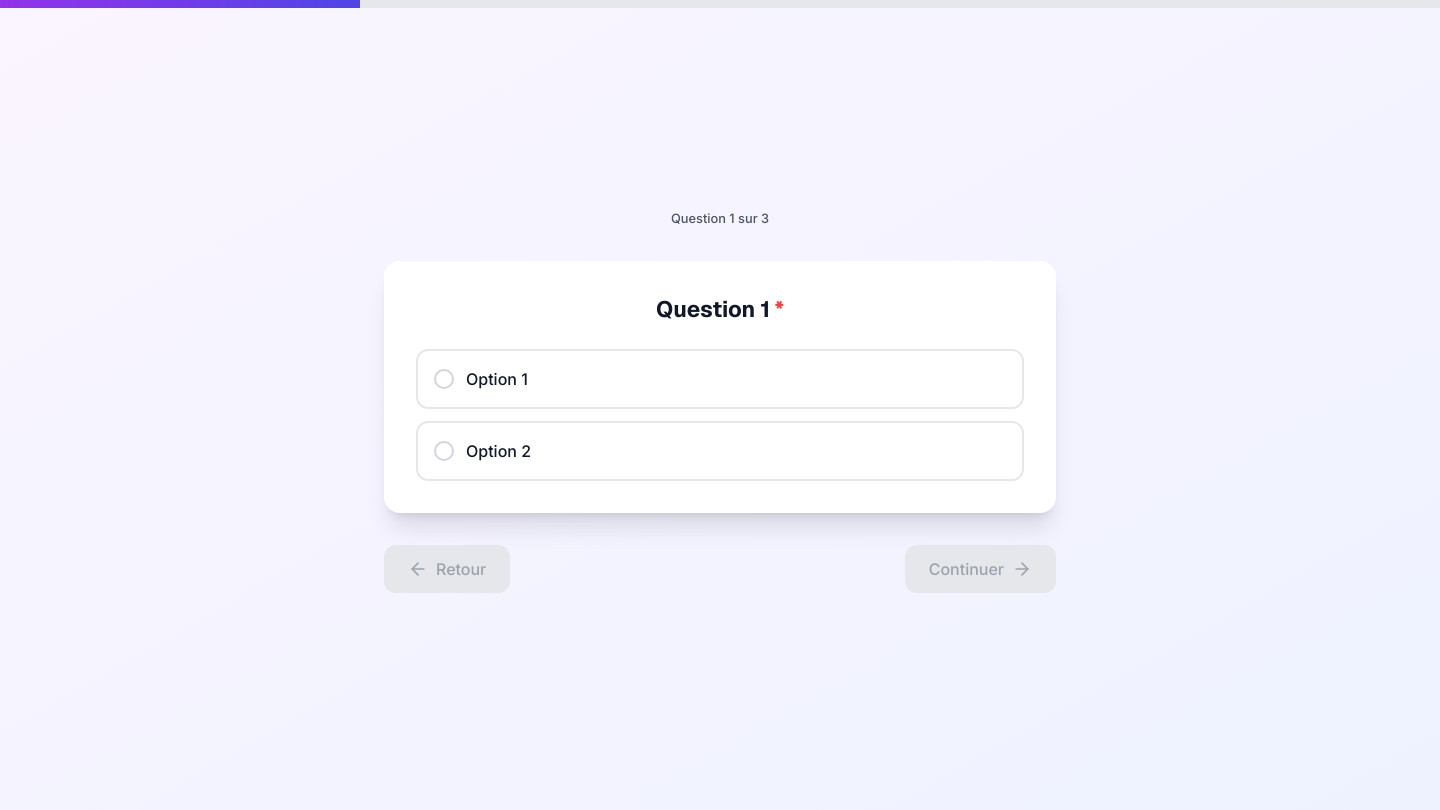
Test: MultiStepFormVote › passe à la question suivante en cliquant sur Continuer
Note: Répondre à Q1
What coordinates should you click on to do the following:
click the button "Option 1"
I would click on:
 (497, 379)
Its box is [416,349,1024,409].
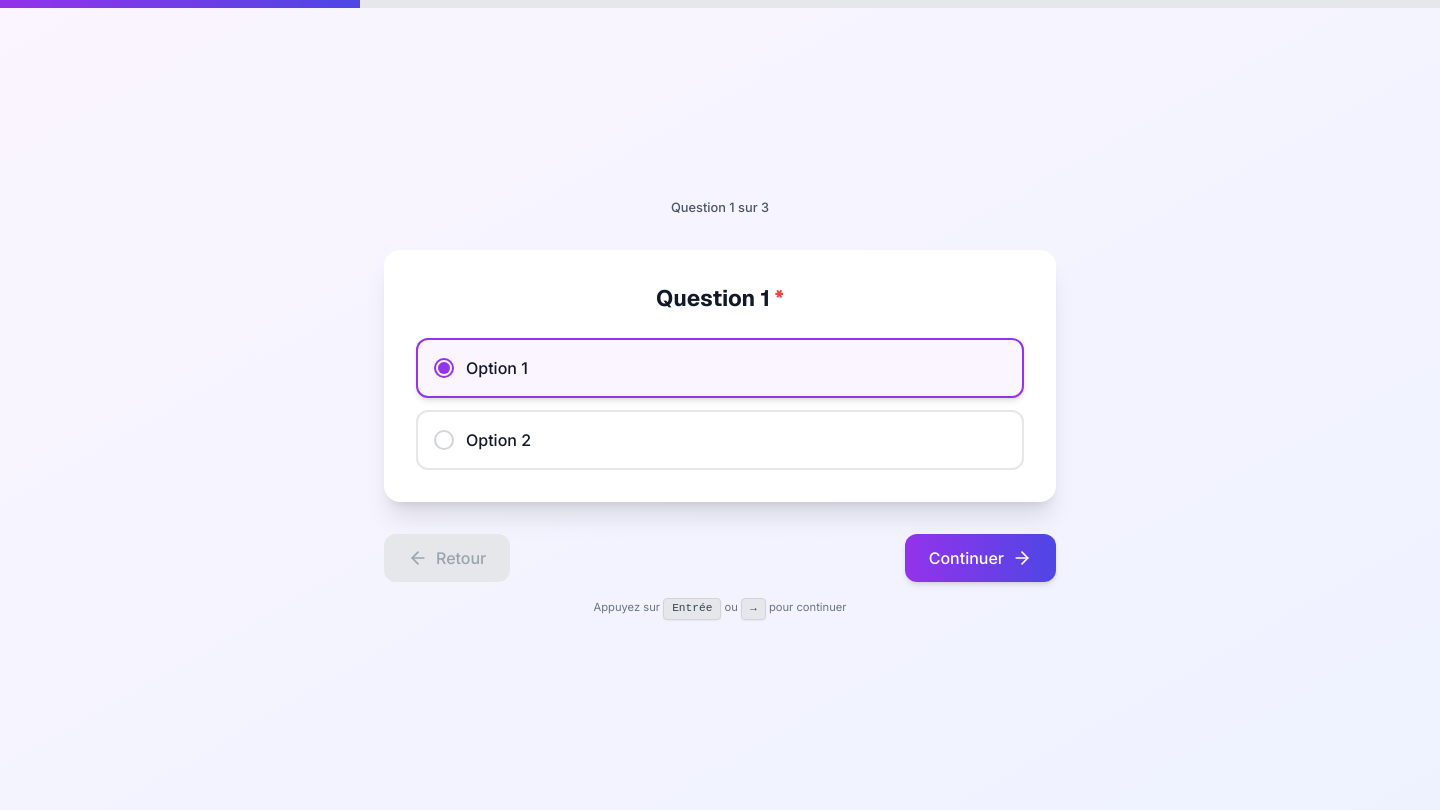
Note: Cliquer sur Continuer
What coordinates should you click on to do the following:
click the button "Continuer"
I would click on:
 (980, 558)
Its box is [905,534,1056,582].
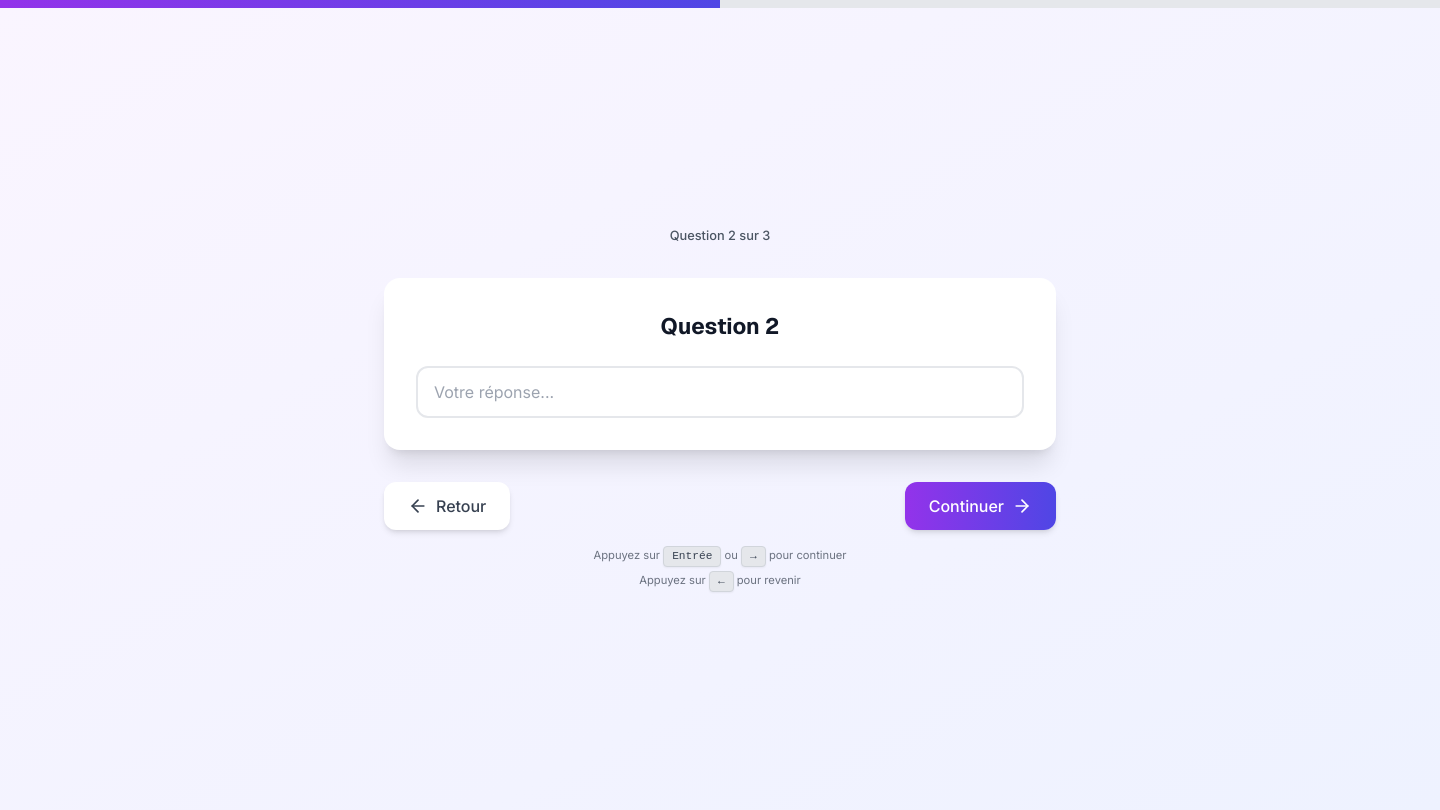
expect the heading "Question 2" is shown: met, box [660,311,779,341]
expect the text "Question 2 sur 3" is shown: met, box [670,228,770,243]
